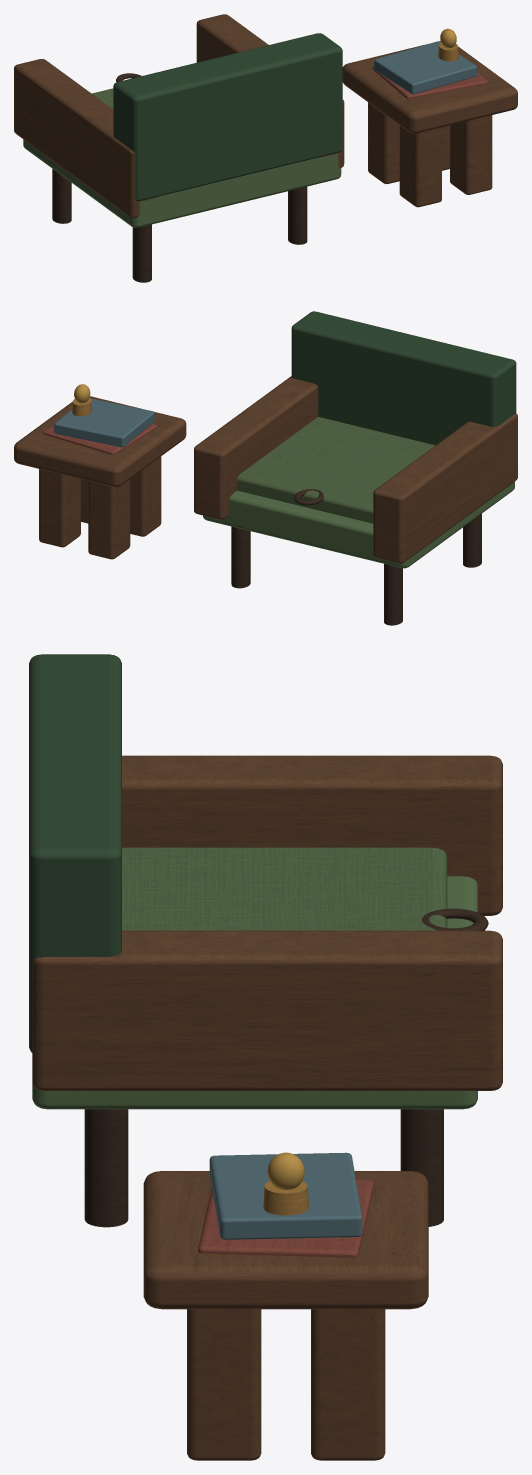
The model's file is reading_nook.glb.
The picture shows the model from 3 angles, top to bottom: view 1: azimuth 30°, elevation 25°; view 2: azimuth 150°, elevation 25°; view 3: azimuth 270°, elevation 25°; orthographic projection. The views are drawn at different scales.
Visible parts, largest first — view 1: reading_nook; view 2: reading_nook; view 3: reading_nook.
Part boxes in pixels (box(x1,y1,x2,y2)): reading_nook: box(14, 14, 517, 282); reading_nook: box(14, 311, 517, 625); reading_nook: box(29, 654, 502, 1460).
Bounding box in the file's own units: 2.4 × 1.2 × 1.2.
Materials: 1 (1 with a texture image).
